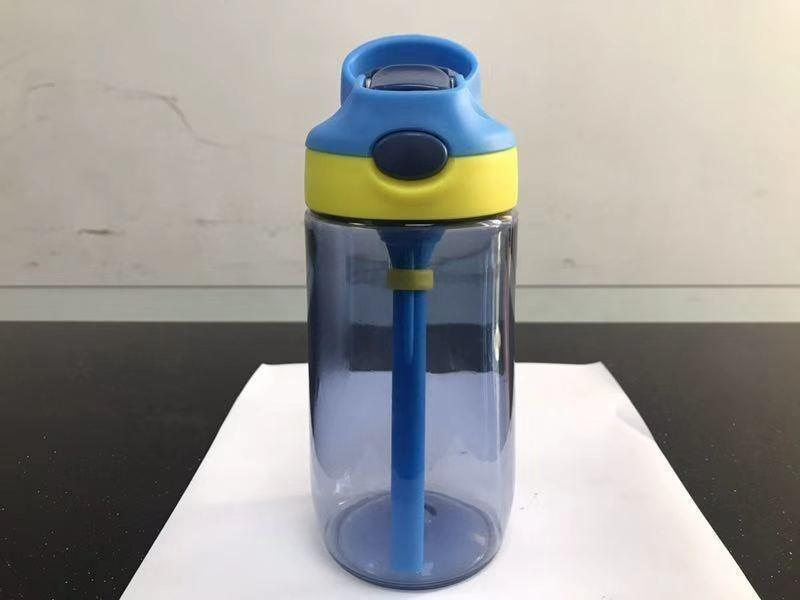gym bottle: (300, 30, 523, 594)
